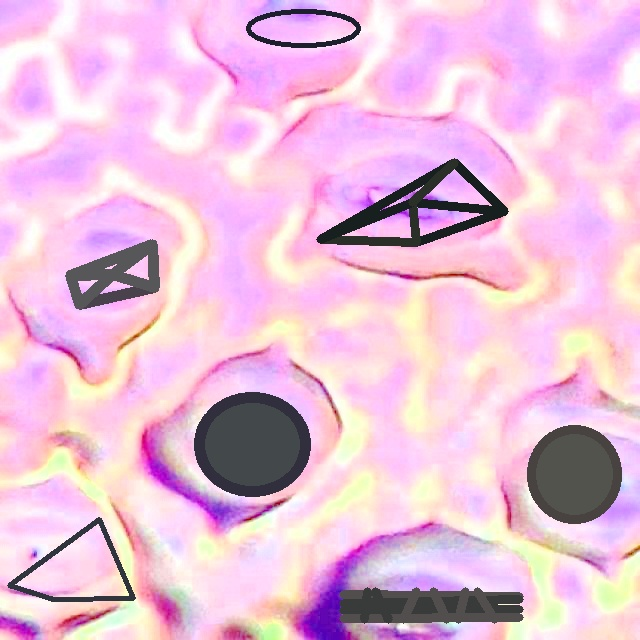close: (66, 240, 159, 309)
open: (316, 158, 508, 246), (194, 391, 311, 496), (7, 517, 135, 601), (527, 425, 621, 523), (339, 587, 523, 623), (246, 9, 360, 47)
